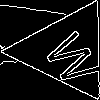W: (41, 25, 100, 89)
